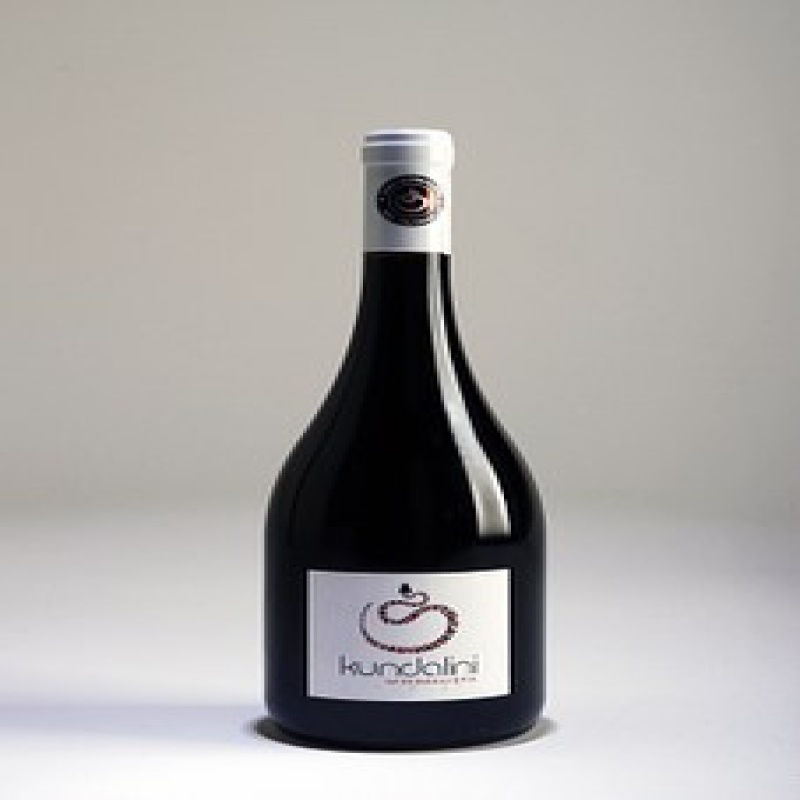wine: (265, 130, 549, 744)
